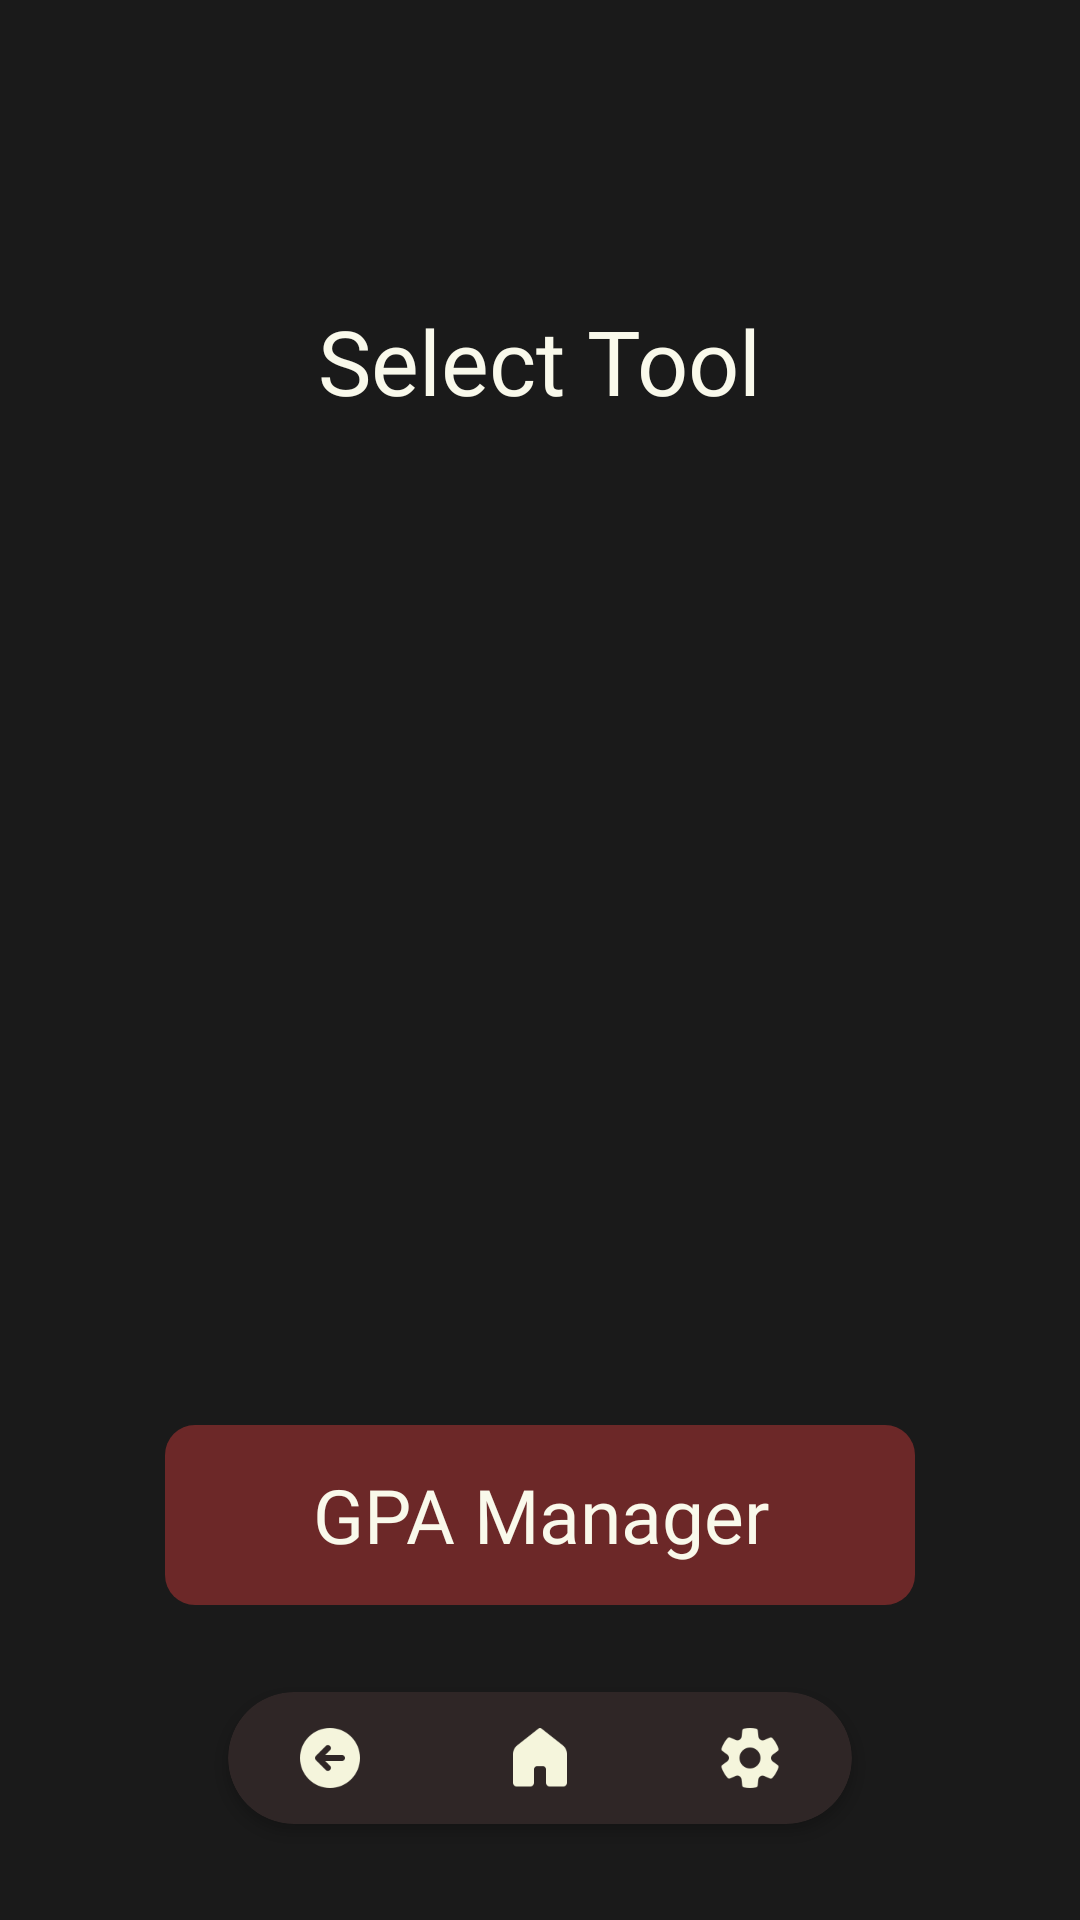

Icon bounding boxes for this 1080*1920 phone screenshot, format region(x1, y1, x2, y2):
back: region(300, 1728, 360, 1788)
home: region(513, 1728, 567, 1787)
settings: region(721, 1728, 779, 1788)
